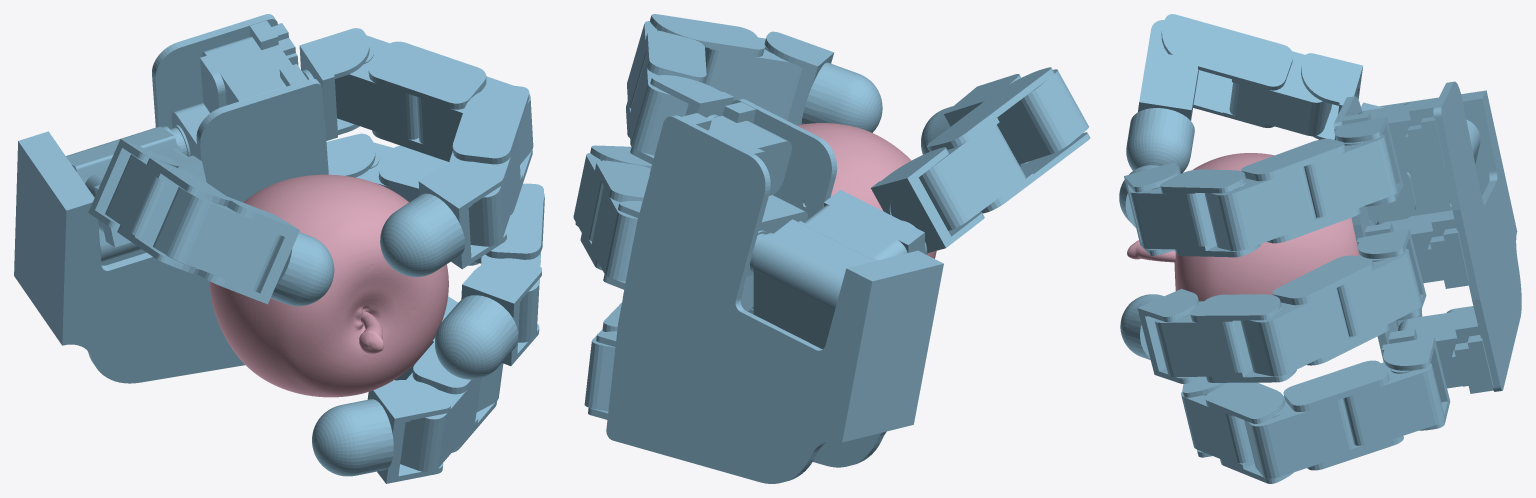
3 renders of one model, left to right at view 1: azimuth 30°, elevation 25°; view 2: azimuth 150°, elevation 25°; view 3: azimuth 270°, elevation 25°, orthographic. The views are drawn at different scales.
Visible parts, largest first — view 1: world; view 2: world; view 3: world.
Part boxes in pixels (x1,y1,x2,y2): world: (14,14,544,483); world: (573,14,1090,483); world: (1119,14,1521,483).
Bounding box in the file's own units: 0.1712 × 0.1354 × 0.1485.
